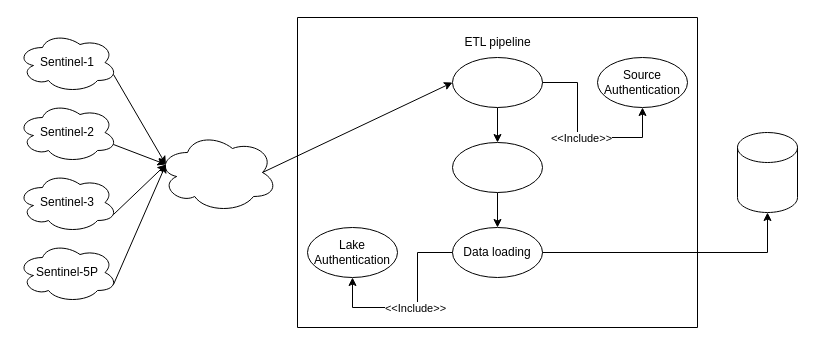
The diagram is 815 pixels wide and 345 high, and some of its shapes have lost their labels. The centre of each missing label's shape, as x and y in pixels:
CDSE: the point at 217,172
Data extraction: the point at 497,82
Data transformation: the point at 497,167
ULake: the point at 767,172
